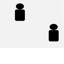human: (13, 1, 26, 22), (47, 21, 59, 43)
